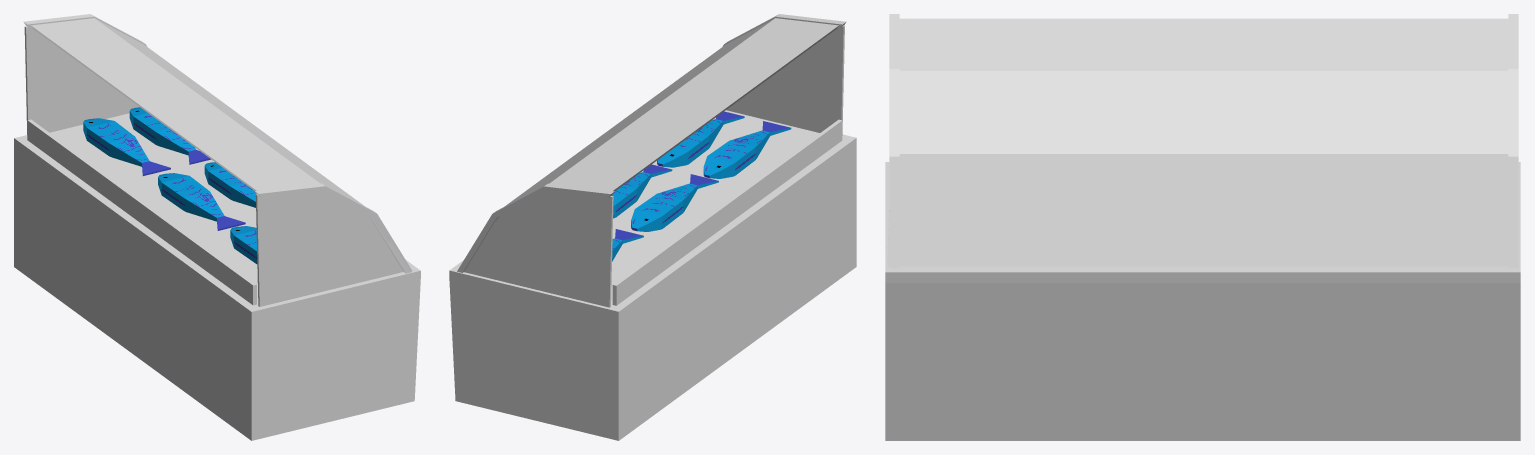
Rendered from showfreezerFish.fbx.
3 views of the same model, side by side, from view 1: azimuth 30°, elevation 25°; view 2: azimuth 150°, elevation 25°; view 3: azimuth 270°, elevation 25° (orthographic). The views are drawn at different scales.
Parts seen in each view (by area): view 1: Cube; view 2: Cube; view 3: Cube.
Boxes of the visible parts, x1,y1,x2,y2 form: Cube: (14, 14, 420, 440); Cube: (449, 14, 856, 440); Cube: (885, 14, 1520, 440).
Bounding box in the file's own units: 208 × 286 × 504.
